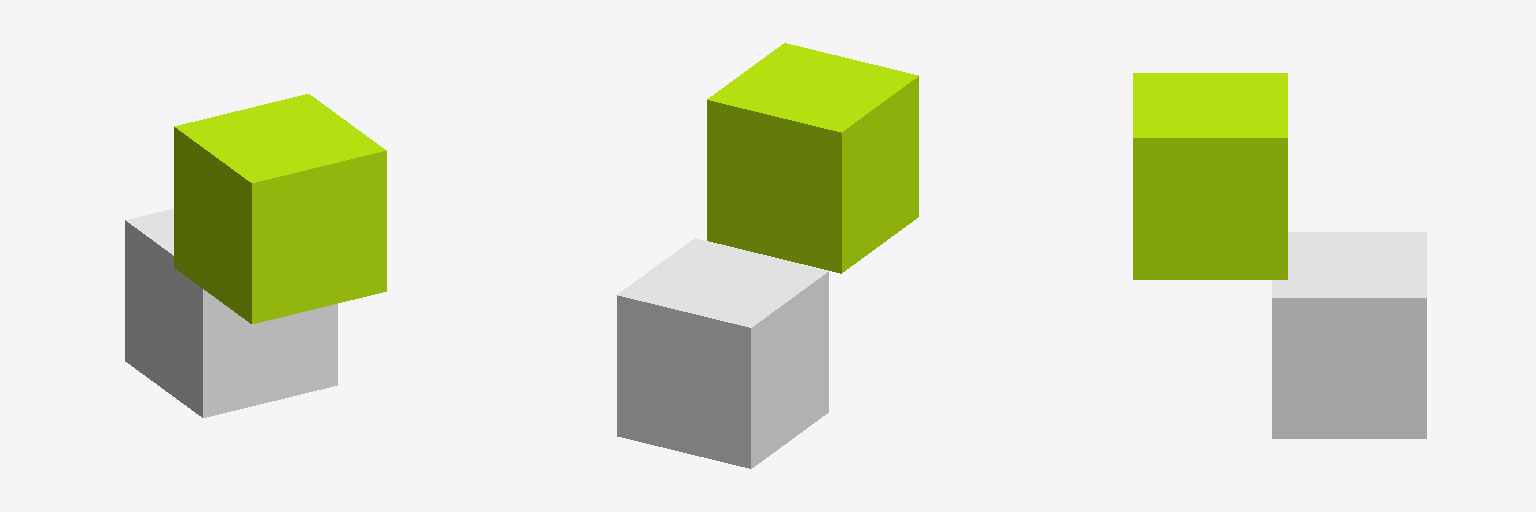
Rendered from Movable5.obj.
3 renders of one model, left to right at view 1: azimuth 30°, elevation 25°; view 2: azimuth 150°, elevation 25°; view 3: azimuth 270°, elevation 25°, orthographic.
Parts seen in each view (by area): view 1: Movable, Static; view 2: Movable, Static; view 3: Movable, Static.
Boxes of the visible parts, x1=… form: Movable: x1=174, y1=94, x2=386, y2=323; Static: x1=125, y1=209, x2=337, y2=417; Movable: x1=707, y1=43, x2=918, y2=273; Static: x1=617, y1=238, x2=828, y2=468; Movable: x1=1133, y1=73, x2=1287, y2=279; Static: x1=1272, y1=232, x2=1426, y2=438.
Size of the model in its own units: 0.2308 by 0.4122 by 0.3783.